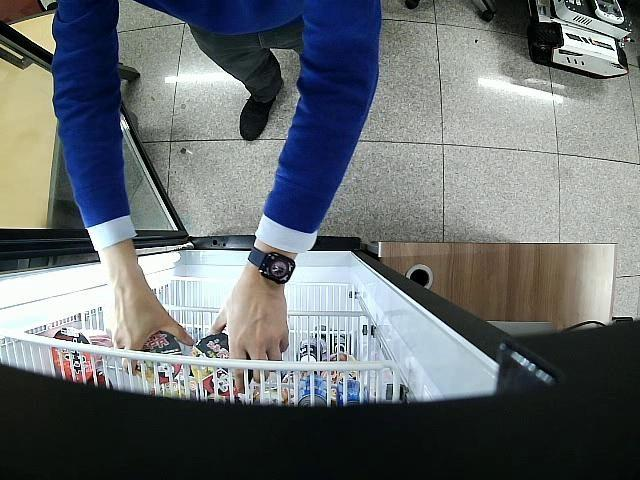08_buldak_S: (191, 332, 253, 396), (137, 332, 182, 383)
